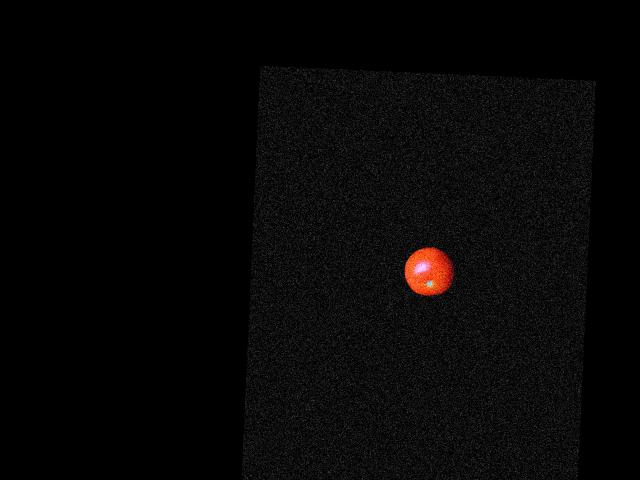tomato: (403, 246, 455, 296)
